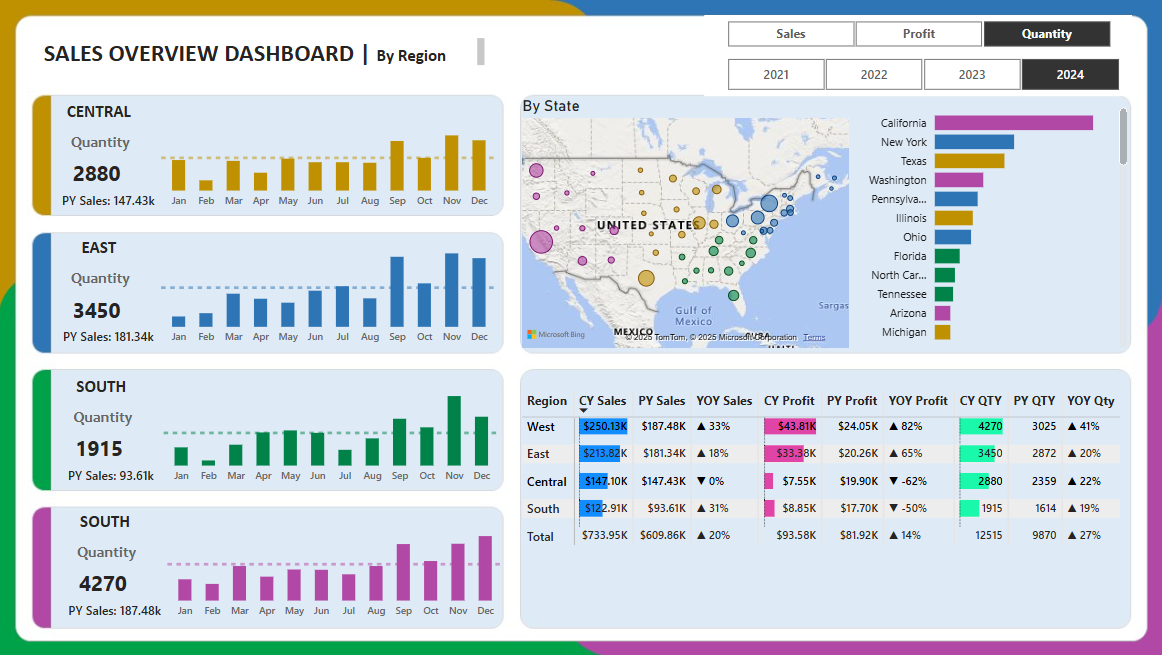

This screenshot's page, from the dashboard's own definition file:
{"tool":"powerbi","page":{"name":"Page 1","canvas":[1280,720],"ordinal":0},"visuals":[{"type":"slicer","fields":{"Values":["Select Metric.Select Metric"]},"box":[775.3,16.5,469.3,41.2],"z":0},{"type":"slicer","fields":{"Values":["Calendar Table.Year"]},"box":[775.3,57.6,478.9,48],"z":1000},{"type":"card","fields":{"Values":["Sales Data.Total Profit"]},"box":[46.6,175.7,123.5,32.9],"z":1000,"group":"g2"},{"type":"card","fields":{"Values":["Sales Data.Total Profit"]},"box":[46.6,325.2,123.5,32.9],"z":1000,"group":"g4"},{"type":"card","fields":{"Values":["Sales Data.Total Profit"]},"box":[49.4,477.5,123.5,32.9],"z":1000,"group":"g5"},{"type":"card","fields":{"Values":["Sales Data.Total Profit"]},"box":[53.5,625.7,123.5,32.9],"z":1000,"group":"g6"},{"type":"textbox","box":[45.3,37,494,41.2],"z":2000},{"type":"textbox","box":[61.5,106.2,97.7,32.6],"z":2000,"group":"g2"},{"type":"textbox","box":[61.5,255.7,97.7,32.6],"z":2000,"group":"g3"},{"type":"textbox","box":[64.3,408,97.7,32.6],"z":2000,"group":"g7"},{"type":"textbox","box":[68.4,556.2,97.7,32.6],"z":2000,"group":"g8"},{"type":"group","id":"g1","title":"Group 1","box":[42.5,105.7,510.5,133.1],"z":3000},{"type":"group","id":"g2","title":"Group 2","box":[42.5,105.7,510.5,133.1],"z":3001,"group":"g1"},{"type":"card","fields":{"Values":["Sales Data.Dynamic Title"]},"box":[61.7,138.6,101.5,37],"z":4000,"group":"g2"},{"type":"group","id":"g3","title":"Group 2","box":[42.5,255.2,510.5,133.1],"z":4000},{"type":"card","fields":{"Values":["Sales Data.Dynamic Title"]},"box":[61.7,288.1,101.5,37],"z":4000,"group":"g4"},{"type":"card","fields":{"Values":["Sales Data.Dynamic Title"]},"box":[64.5,440.4,101.5,37],"z":4000,"group":"g5"},{"type":"card","fields":{"Values":["Sales Data.Dynamic Title"]},"box":[68.6,588.6,101.5,37],"z":4000,"group":"g6"},{"type":"group","id":"g4","title":"Group 3","box":[42.5,255.2,510.5,133.1],"z":4001,"group":"g3"},{"type":"group","id":"g5","title":"Group 3","box":[45.3,407.5,510.5,133.1],"z":4001,"group":"g7"},{"type":"group","id":"g6","title":"Group 3","box":[49.4,555.7,510.5,133.1],"z":4001,"group":"g8"},{"type":"card","fields":{"Values":["Sales Data.PY KPI Sales"]},"box":[42.5,205.9,157.8,32.9],"z":5000,"group":"g2"},{"type":"card","fields":{"Values":["Sales Data.PY KPI Sales"]},"box":[42.5,355.4,157.8,32.9],"z":5000,"group":"g4"},{"type":"group","id":"g7","title":"Group 2","box":[45.3,407.5,510.5,133.1],"z":5000},{"type":"card","fields":{"Values":["Sales Data.PY KPI Sales"]},"box":[45.3,507.7,157.8,32.9],"z":5000,"group":"g5"},{"type":"card","fields":{"Values":["Sales Data.PY KPI Sales"]},"box":[49.4,655.9,157.8,32.9],"z":5000,"group":"g6"},{"type":"clusteredColumnChart","fields":{"Y":["Sales Data.Total Profit"],"Category":["Calendar Table.Month"]},"box":[174.2,105.7,378.7,131.7],"z":6000,"group":"g2"},{"type":"clusteredColumnChart","fields":{"Y":["Sales Data.Total Profit"],"Category":["Calendar Table.Month"]},"box":[174.2,255.2,378.7,131.7],"z":6000,"group":"g4"},{"type":"clusteredColumnChart","fields":{"Y":["Sales Data.Total Profit"],"Category":["Calendar Table.Month"]},"box":[177,407.5,378.7,131.7],"z":6000,"group":"g5"},{"type":"group","id":"g8","title":"Group 2","box":[49.4,555.7,510.5,133.1],"z":6000},{"type":"clusteredColumnChart","fields":{"Y":["Sales Data.Total Profit"],"Category":["Calendar Table.Month"]},"box":[181.1,555.7,378.7,131.7],"z":6000,"group":"g6"},{"type":"map","title":"Sales by State","fields":{"Size":["Sales Data.Total Profit"],"Category":["Sales Data.State/Province"],"Series":["Sales Data.Region"]},"box":[570.6,106.2,368,281.1],"z":7000},{"type":"barChart","fields":{"Y":["Sales Data.Total Profit"],"Category":["Sales Data.State/Province"],"Series":["Sales Data.Region"]},"box":[938.6,105.7,306,281.3],"z":8000},{"type":"pivotTable","fields":{"Rows":["Sales Data.Region"],"Values":["Sales Data.CY SALES","Sales Data.PY SALES","Sales Data.YOY SALES","Sales Data.CY Profit","Sales Data.PY Profit","Sales Data.YOY Profit","Sales Data.CY QTY","Sales Data.PY QTY","Sales Data.YOY Qty"]},"box":[570.8,506.3,673.8,182.5],"z":9000}]}

Visuals, with their boxes in screenshot pixels (x1, y1, x2, y2), scaled from the page's 1280x720 canvas onto the 1162x655 screenshot:
slicer - Select Metric.Select Metric: (704,15,1130,52)
slicer - Calendar Table.Year: (704,52,1139,96)
card - Sales Data.Total Profit: (42,160,154,190)
card - Sales Data.Total Profit: (42,296,154,326)
card - Sales Data.Total Profit: (45,434,157,464)
card - Sales Data.Total Profit: (49,569,161,599)
textbox: (41,34,490,71)
textbox: (56,97,145,126)
textbox: (56,233,145,262)
textbox: (58,371,147,401)
textbox: (62,506,151,536)
"Group 1" group: (39,96,502,217)
"Group 2" group: (39,96,502,217)
card - Sales Data.Dynamic Title: (56,126,148,160)
"Group 2" group: (39,232,502,353)
card - Sales Data.Dynamic Title: (56,262,148,296)
card - Sales Data.Dynamic Title: (59,401,151,434)
card - Sales Data.Dynamic Title: (62,535,154,569)
"Group 3" group: (39,232,502,353)
"Group 3" group: (41,371,505,492)
"Group 3" group: (45,506,508,627)
card - Sales Data.PY KPI Sales: (39,187,182,217)
card - Sales Data.PY KPI Sales: (39,323,182,353)
"Group 2" group: (41,371,505,492)
card - Sales Data.PY KPI Sales: (41,462,184,492)
card - Sales Data.PY KPI Sales: (45,597,188,627)
clusteredColumnChart - Sales Data.Total Profit x Calendar Table.Month: (158,96,502,216)
clusteredColumnChart - Sales Data.Total Profit x Calendar Table.Month: (158,232,502,352)
clusteredColumnChart - Sales Data.Total Profit x Calendar Table.Month: (161,371,504,491)
"Group 2" group: (45,506,508,627)
clusteredColumnChart - Sales Data.Total Profit x Calendar Table.Month: (164,506,508,625)
"Sales by State" map: (518,97,852,352)
barChart - Sales Data.Total Profit x Sales Data.State/Province: (852,96,1130,352)
pivotTable - Sales Data.Region x Sales Data.CY SALES: (518,461,1130,627)
